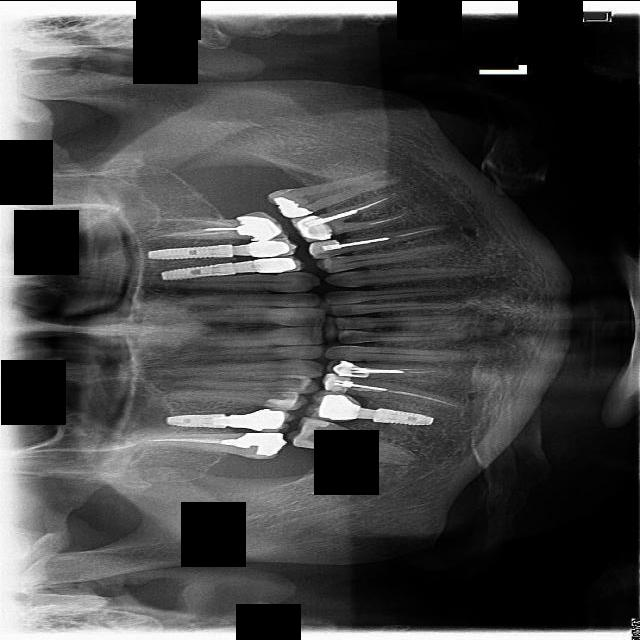55: (147, 243, 233, 262), (372, 407, 434, 431), (158, 261, 235, 280), (166, 411, 228, 428)
71: (319, 234, 390, 251), (304, 208, 358, 228), (333, 378, 389, 391)
74: (384, 387, 461, 407), (162, 214, 238, 228), (147, 434, 223, 445), (393, 224, 445, 237), (161, 228, 231, 236), (353, 196, 388, 211), (370, 214, 404, 224), (348, 367, 404, 373)
NucleOSS Implant: (217, 432, 288, 456), (270, 194, 314, 224)
Sterngold Implant: (327, 255, 343, 261), (334, 237, 347, 243), (277, 189, 292, 192)
Straumann Implant: (292, 410, 331, 455), (258, 388, 305, 411), (322, 372, 351, 393), (307, 238, 340, 255)
Zimmer Implant: (302, 385, 380, 433), (221, 407, 297, 437), (234, 208, 283, 244), (236, 254, 303, 278), (291, 211, 332, 245), (231, 237, 298, 257), (327, 359, 372, 379)
